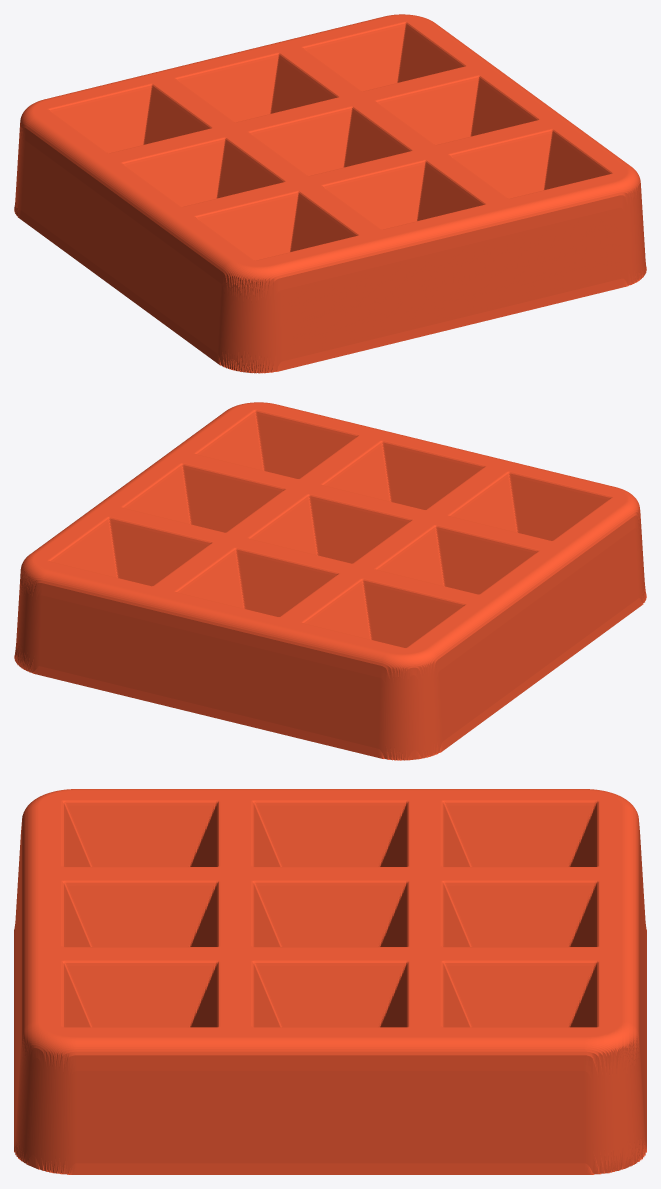
The model's file is mold.glb.
The picture shows the model from 3 angles, top to bottom: view 1: azimuth 30°, elevation 25°; view 2: azimuth 150°, elevation 25°; view 3: azimuth 270°, elevation 25°; orthographic projection. The views are drawn at different scales.
Visible parts, largest first — view 1: geometry_0; view 2: geometry_0; view 3: geometry_0.
Boxes of the visible parts, x1=… form: geometry_0: x1=14, y1=14, x2=646, y2=373; geometry_0: x1=14, y1=402, x2=646, y2=760; geometry_0: x1=14, y1=789, x2=646, y2=1174.
Size of the model in its own units: 0.0918 by 0.0204 by 0.0918.
